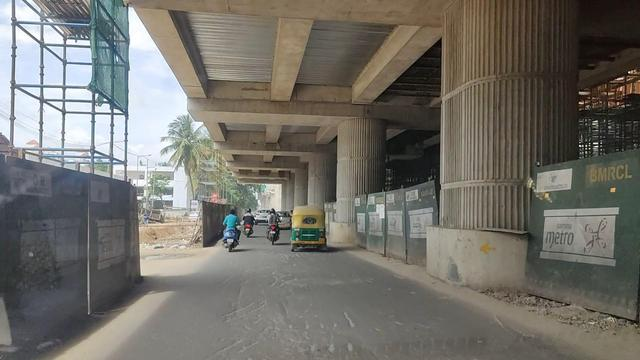LMV: (290, 197, 331, 261), (221, 205, 241, 259), (263, 204, 285, 253)
RoadDamages: (192, 301, 560, 357), (235, 257, 383, 307)
